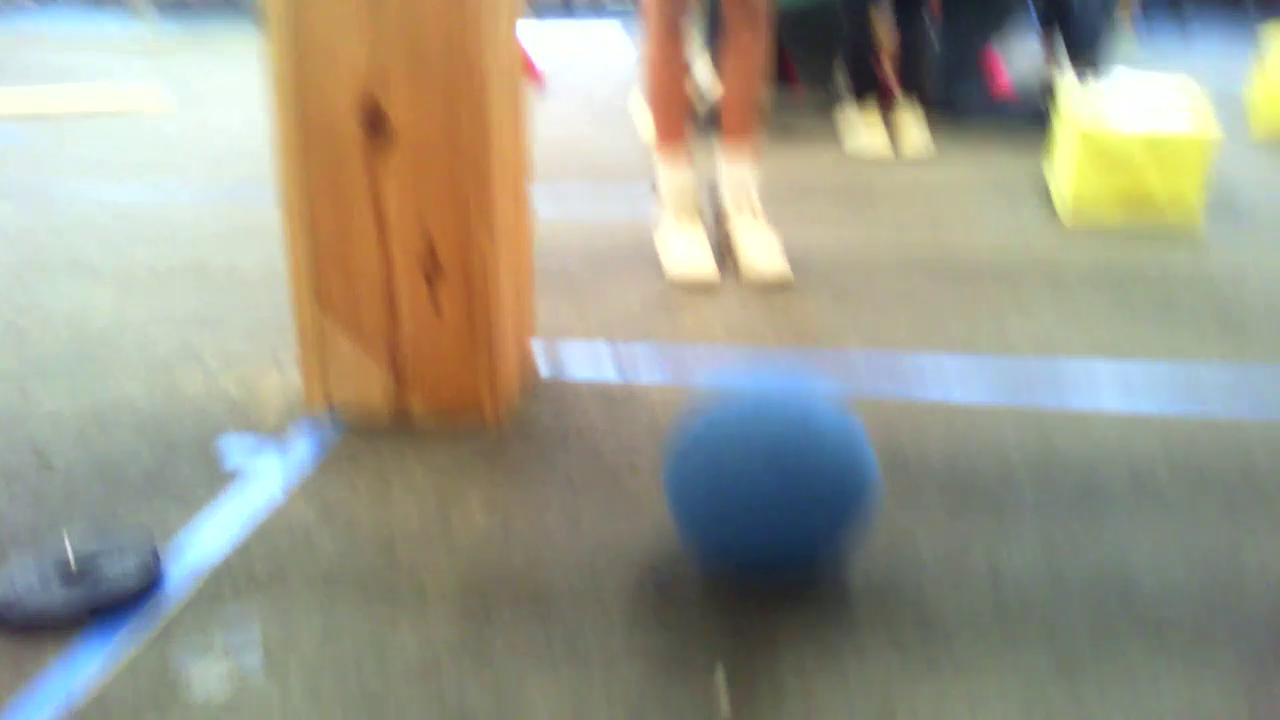blue_cargo: (670, 371, 885, 583)
